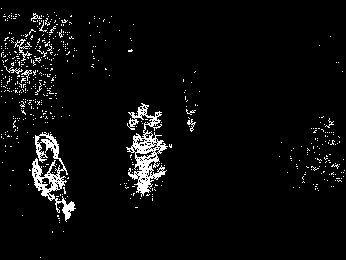person: (30, 135, 80, 222), (182, 71, 206, 132)
